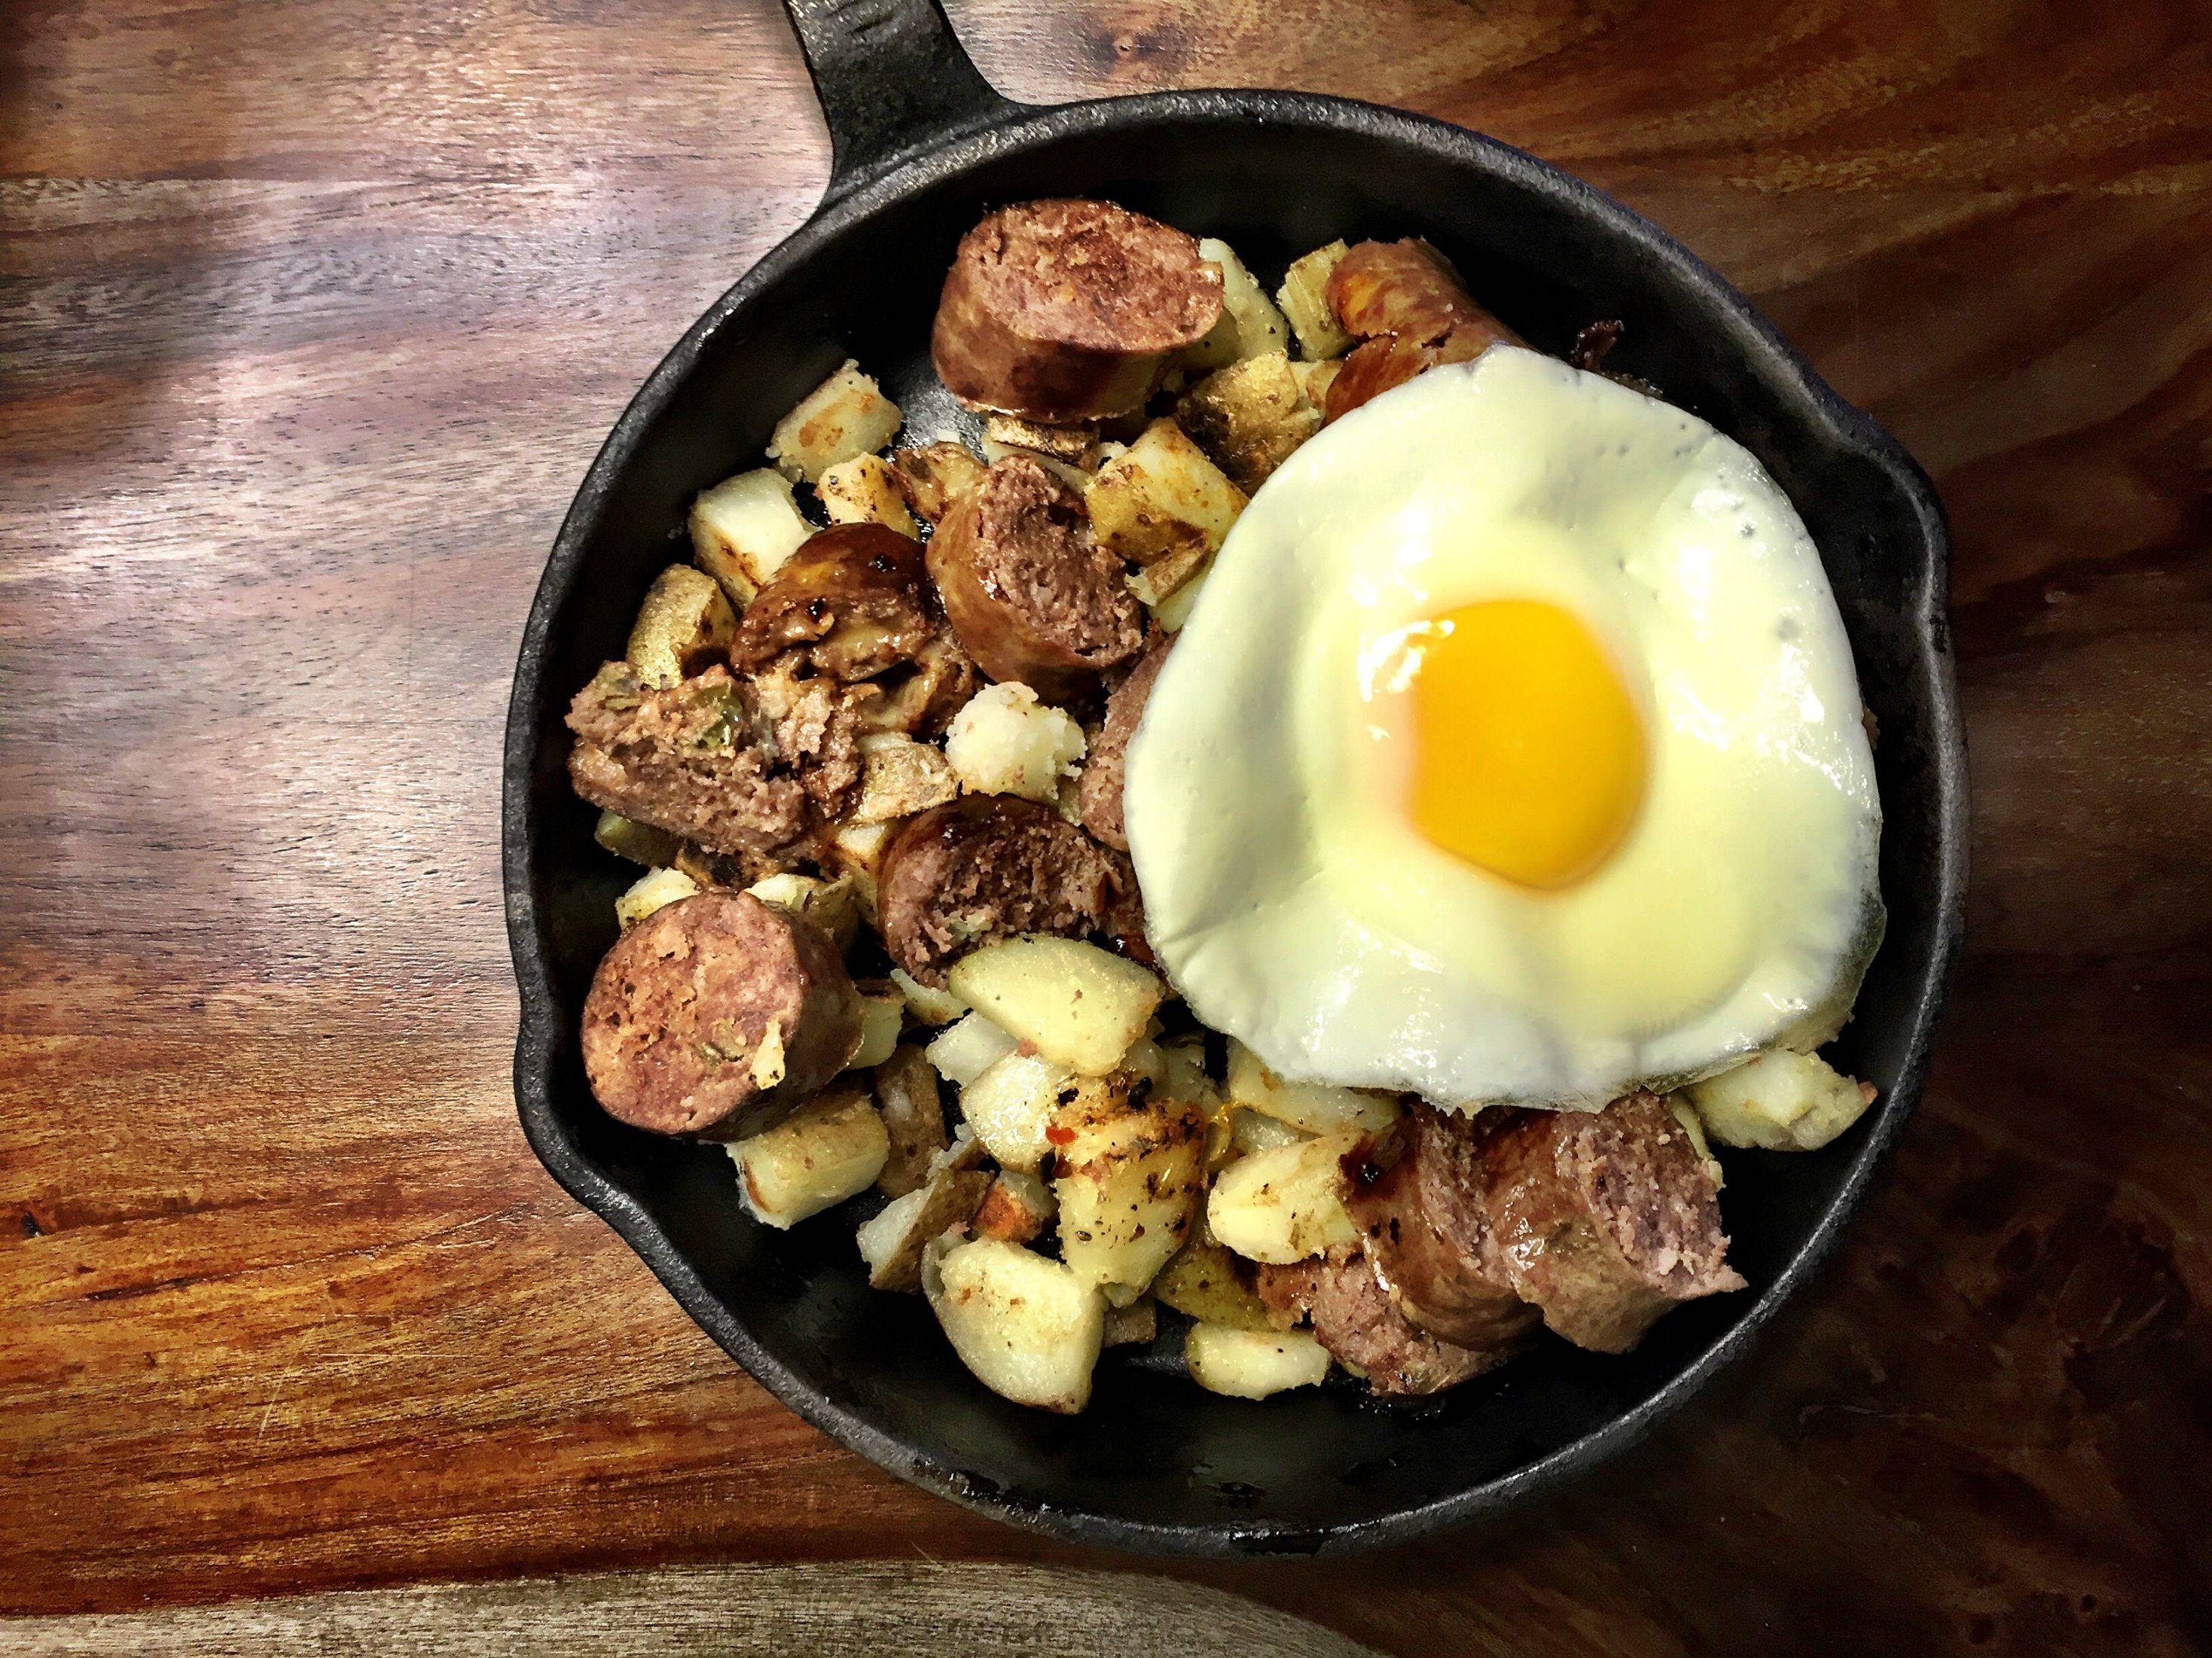fried egg: (1136, 359, 1883, 1118)
